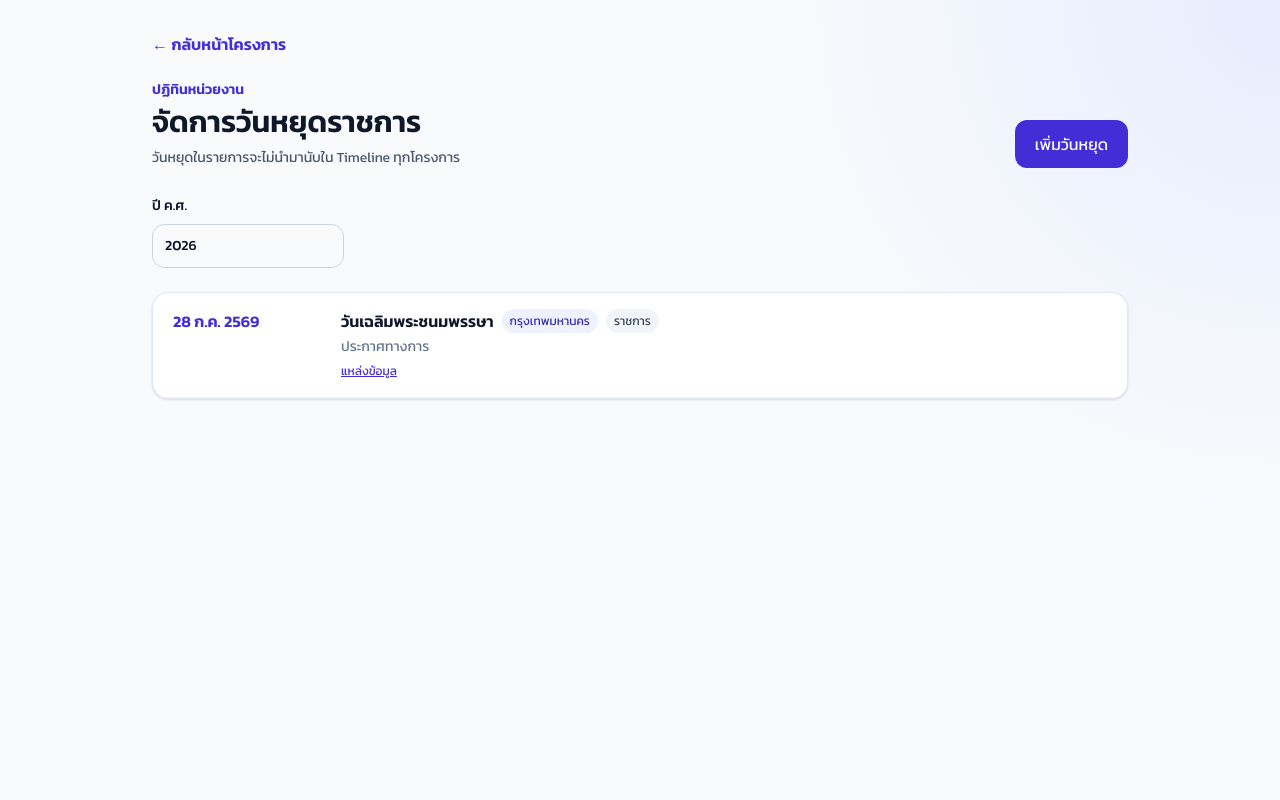
Test: HolidayManager › shows holidays and previews a new holiday before confirming
Expected: the text "วันเฉลิมพระชนมพรรษา" is shown, [341, 309, 494, 333]
Step 1. Click the button "เพิ่มวันหยุด" → x=1071, y=144, box [1015, 120, 1128, 168]
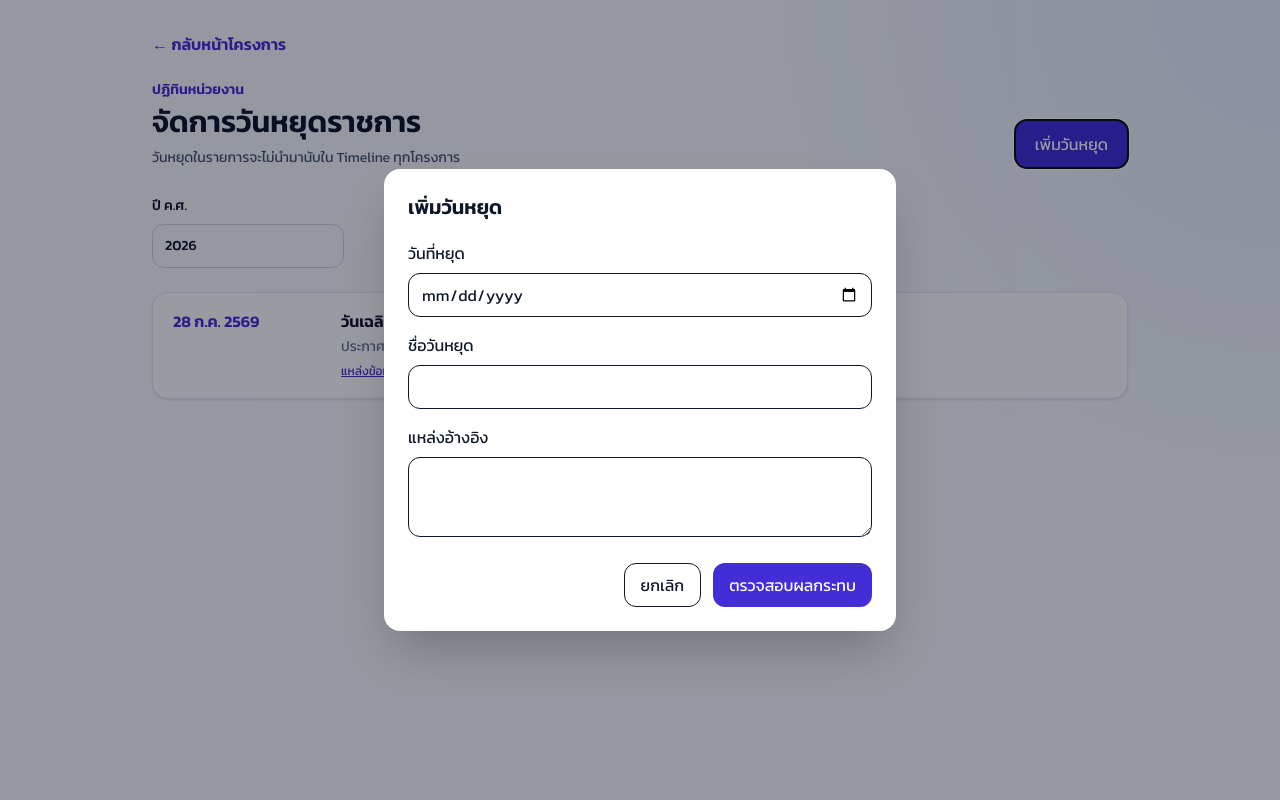
Step 2. Type "2026-10-16" into the date field labelled "วันที่หยุด" → x=640, y=295, box [408, 273, 872, 317]
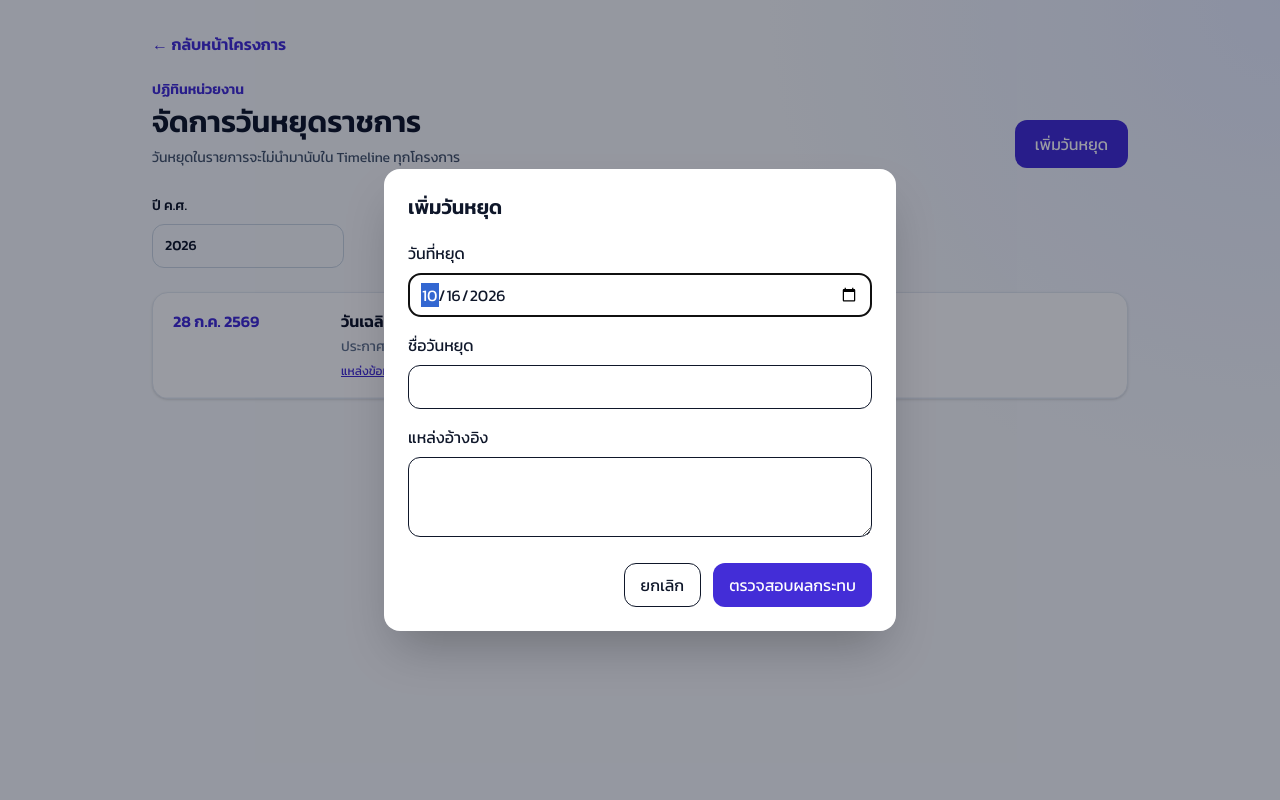
Step 3. Type "วันหยุดพิเศษ" into the field labelled "ชื่อวันหยุด" → x=640, y=387, box [408, 365, 872, 409]
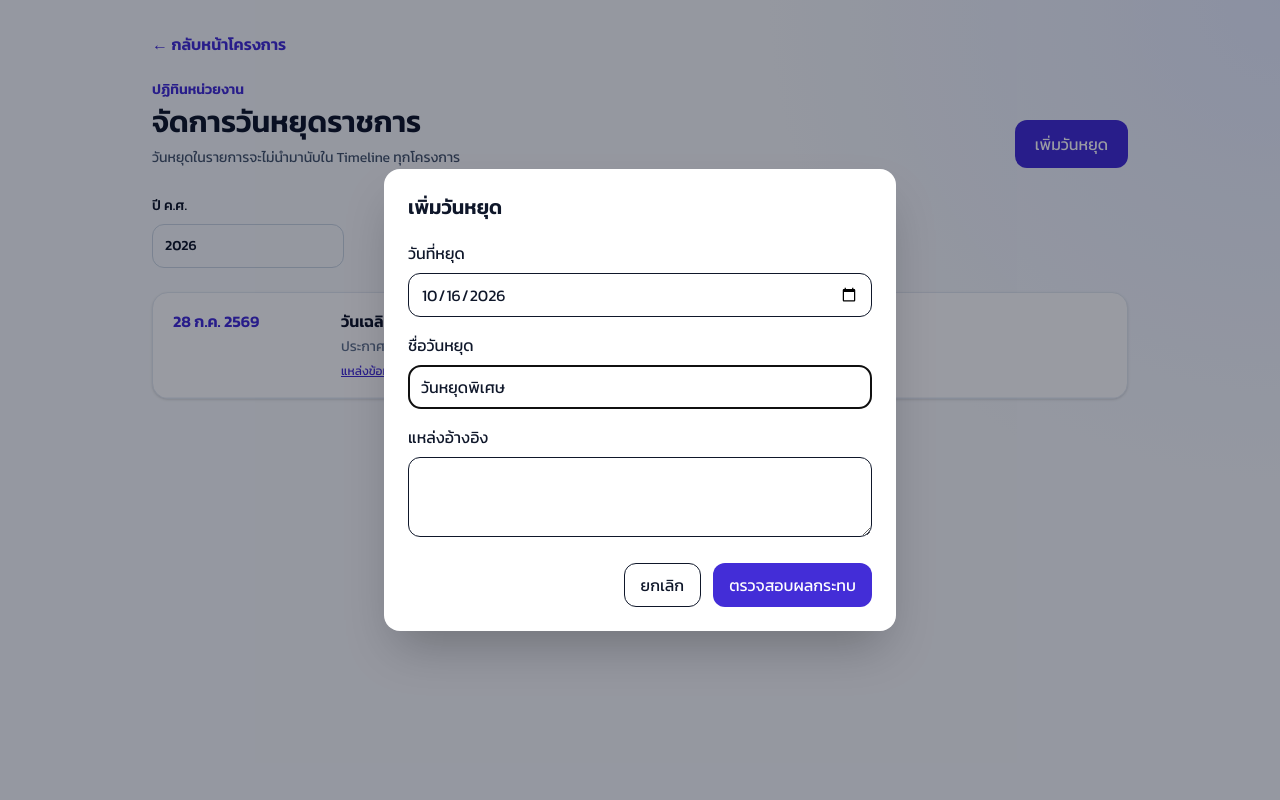
Step 4. Type "มติคณะรัฐมนตรี" into the text box labelled "แหล่งอ้างอิง" → x=640, y=497, box [408, 457, 872, 537]
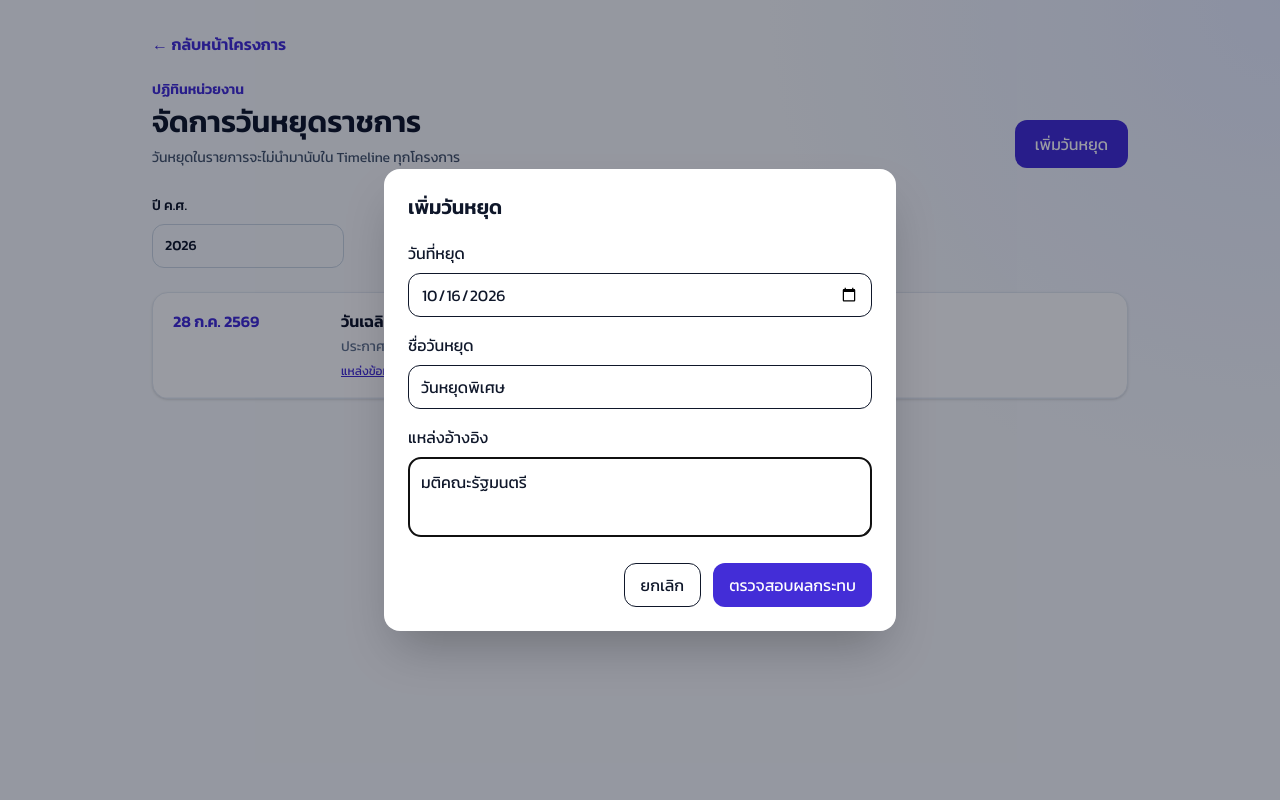
Step 5. Click the button "ตรวจสอบผลกระทบ" → x=793, y=585, box [713, 563, 872, 607]
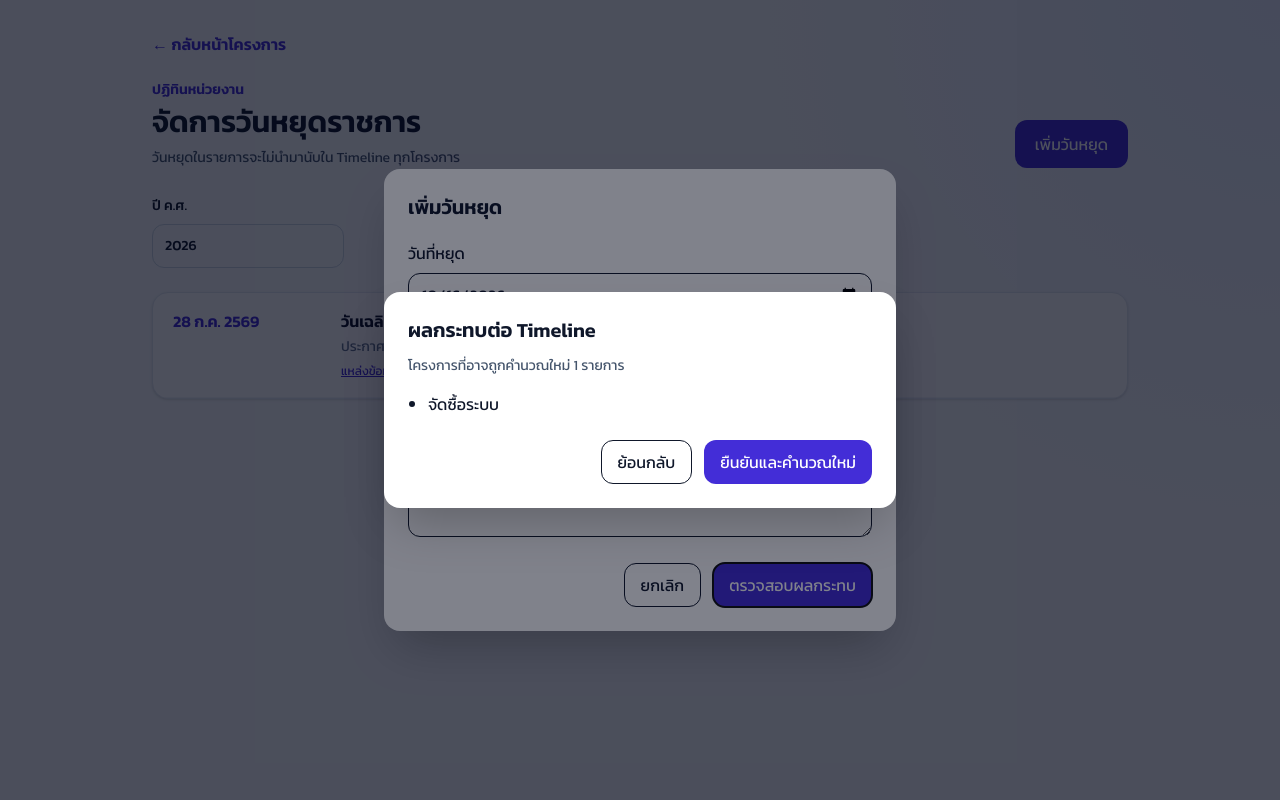
Expected: the text "กรุงเทพมหานคร" is shown, [502, 309, 598, 333]
Result: the list item "จัดซื้อระบบ" is shown at [428, 392, 499, 416]
